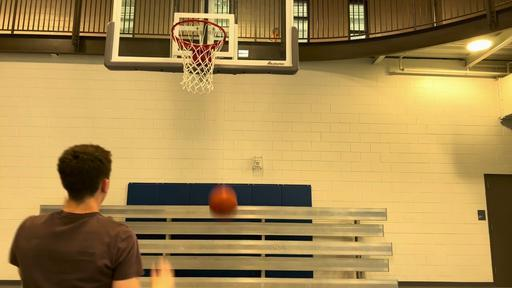ball: (210, 186, 237, 214)
human: (8, 144, 174, 288)
rim: (172, 20, 226, 93)
